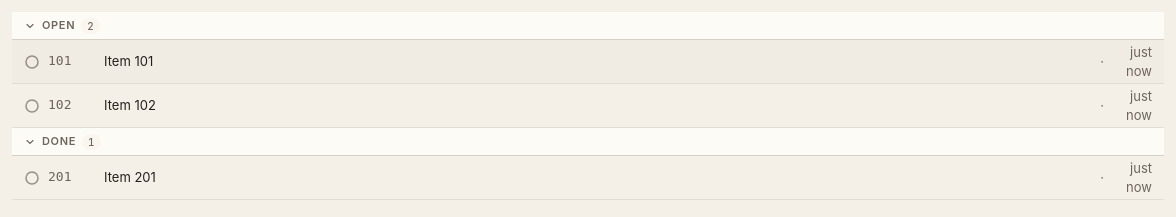
Test: ItemTable › opens a row context menu and runs the chosen entry
Right-click the option with test id "item-table-row".
right_click(588, 62)  # box [12,40,1164,84]
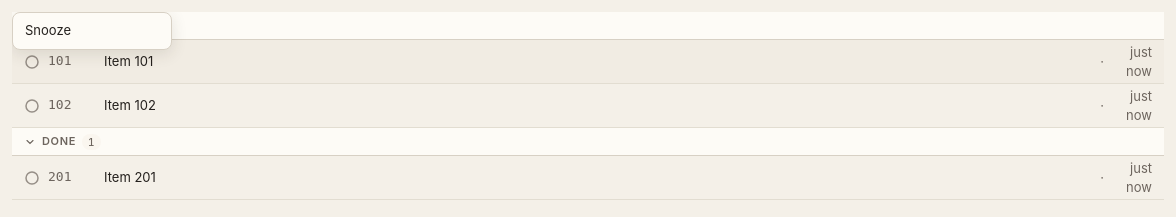
Click the menu item "Snooze".
click(92, 31)  # box [13,17,171,45]
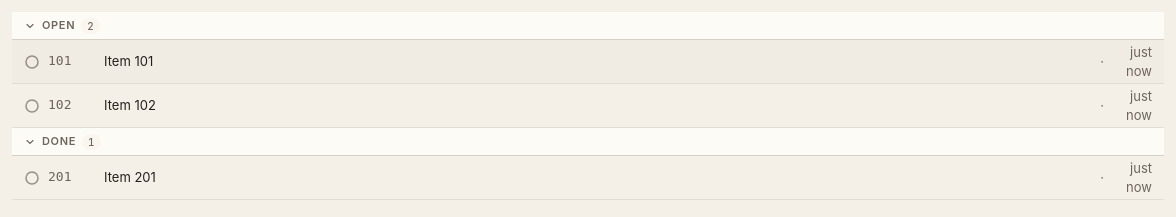
Expected: the menu is gone
